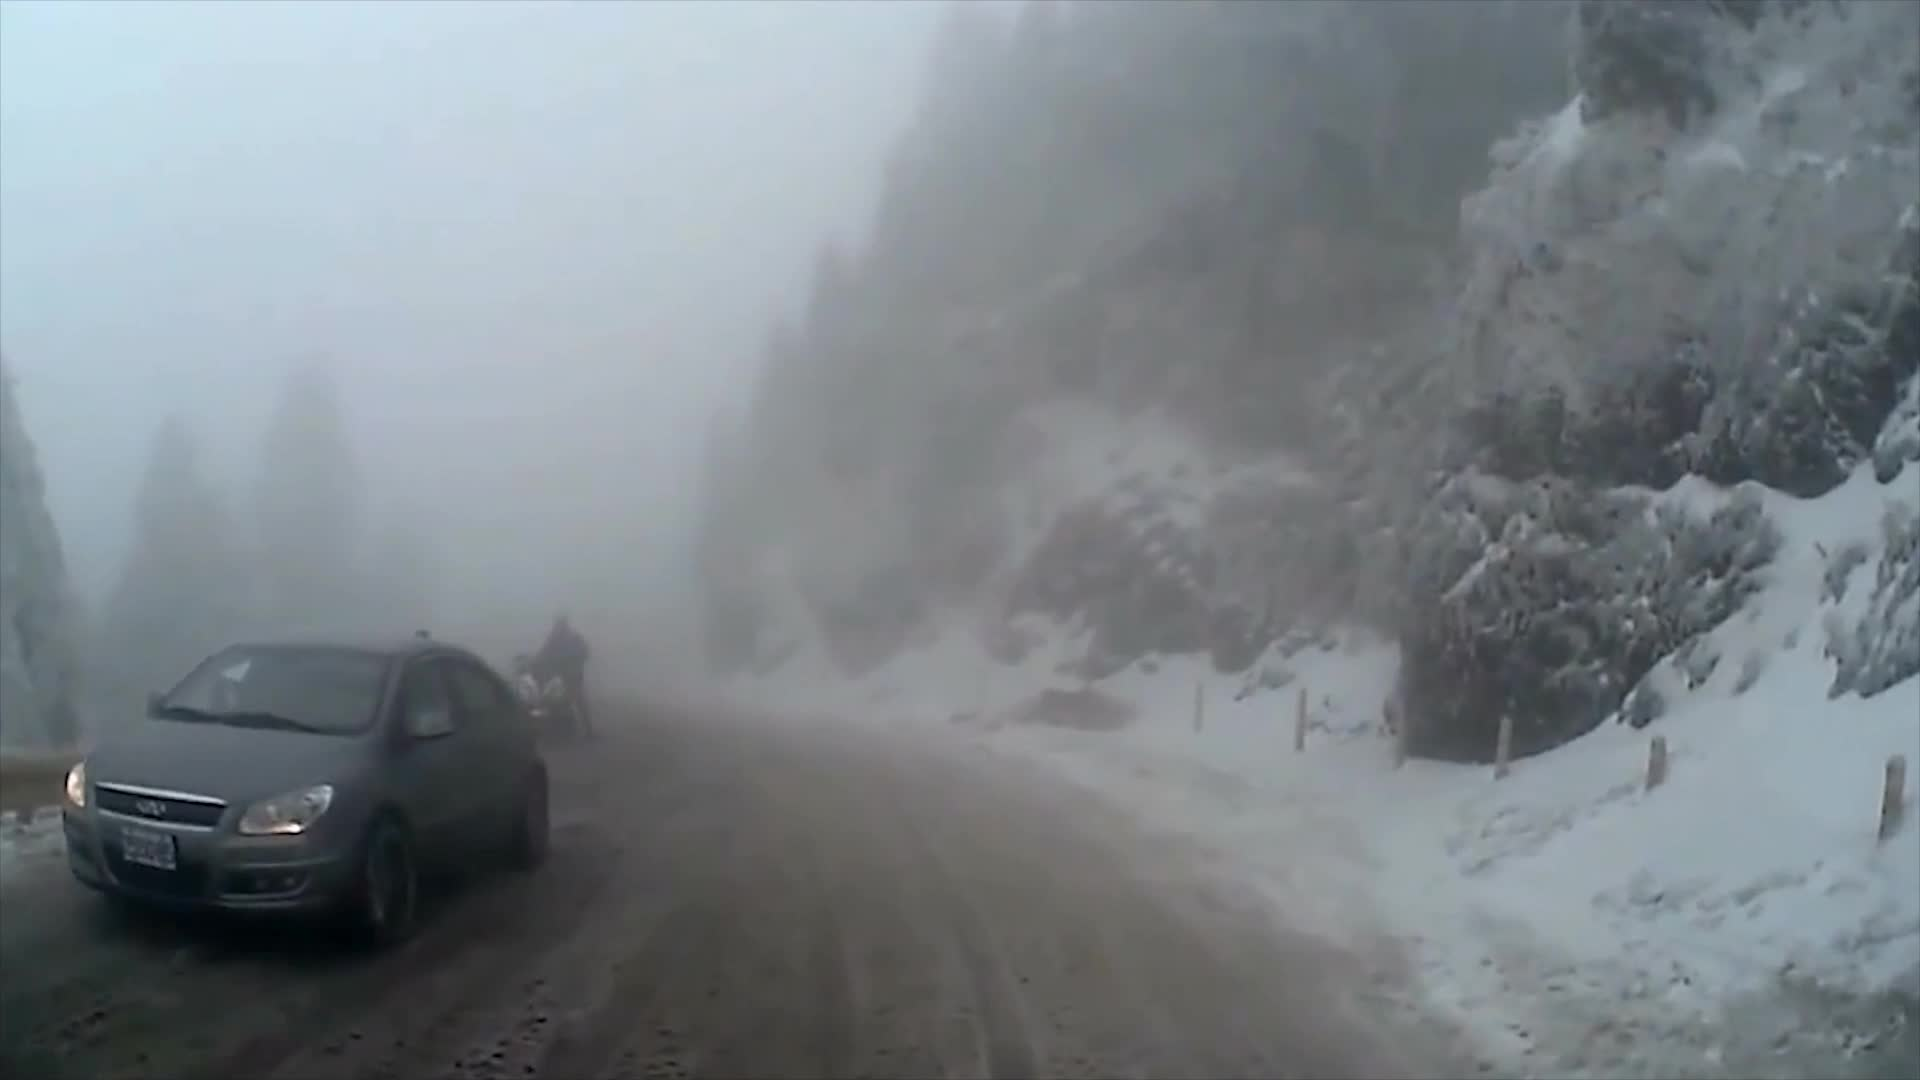vehicle: (59, 634, 551, 953)
